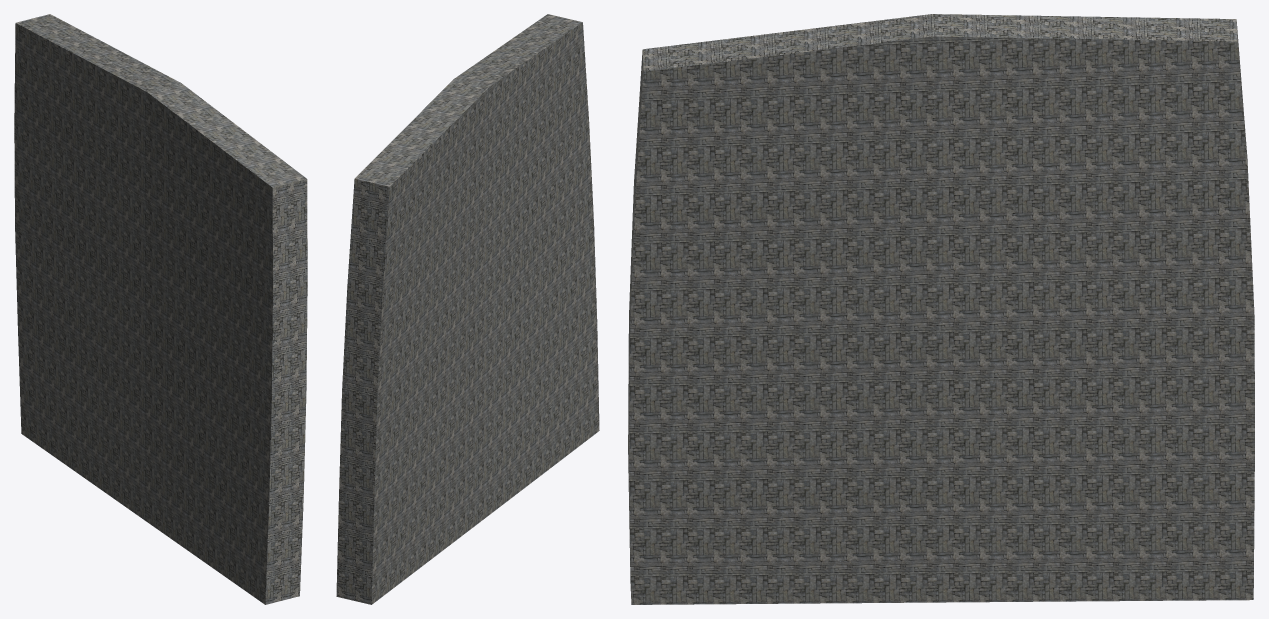
File: ExitDoor.obj
The picture shows the model from 3 angles, left to right: view 1: azimuth 30°, elevation 25°; view 2: azimuth 150°, elevation 25°; view 3: azimuth 270°, elevation 25°; orthographic projection. The views are drawn at different scales.
Visible parts, largest first — view 1: ExitDoor; view 2: ExitDoor; view 3: ExitDoor.
Part boxes in pixels (x1,y1,x2,y2): ExitDoor: (14,14,307,604); ExitDoor: (336,14,599,604); ExitDoor: (628,14,1254,604).
Size of the model in its own units: 1.9 by 11.73 by 11.78.
1 material, 1 textured.
